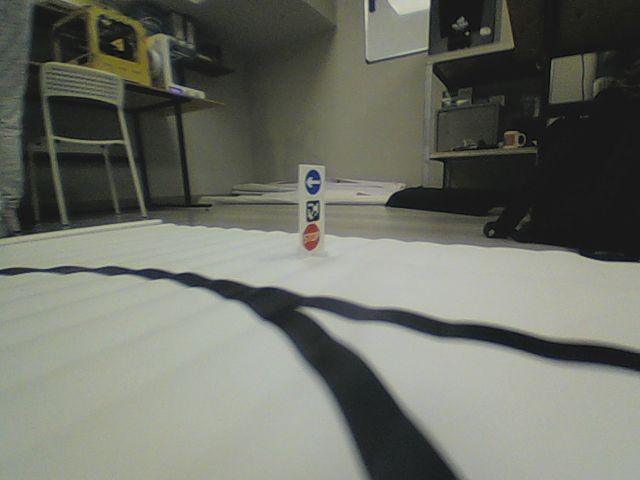Stop: (302, 222, 321, 252)
